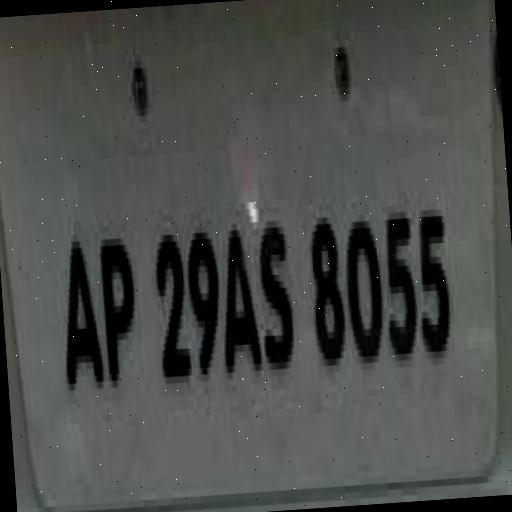number plate: (9, 10, 512, 512)
